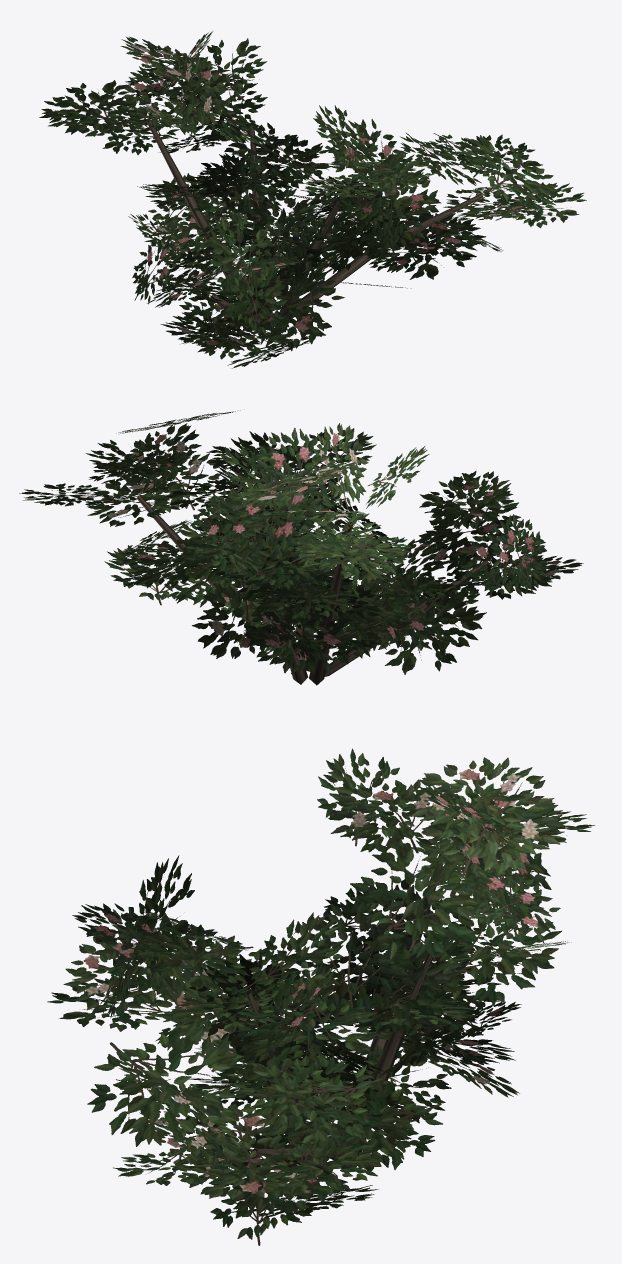
Rendered from arbusto_azaleia_lod1.glb.
3 views of the same model, one above another, from view 1: azimuth 30°, elevation 25°; view 2: azimuth 150°, elevation 25°; view 3: azimuth 270°, elevation 25° (orthographic). The views are drawn at different scales.
Visible parts, largest first — view 1: arbusto_azaleia_lod1; view 2: arbusto_azaleia_lod1; view 3: arbusto_azaleia_lod1.
Boxes of the visible parts, <box> form: arbusto_azaleia_lod1: <box>39,31,586,368</box>; arbusto_azaleia_lod1: <box>19,410,583,685</box>; arbusto_azaleia_lod1: <box>47,748,594,1245</box>.
Size of the model in its own units: 2.22 by 1.25 by 1.72.
2 materials, 2 textured.
